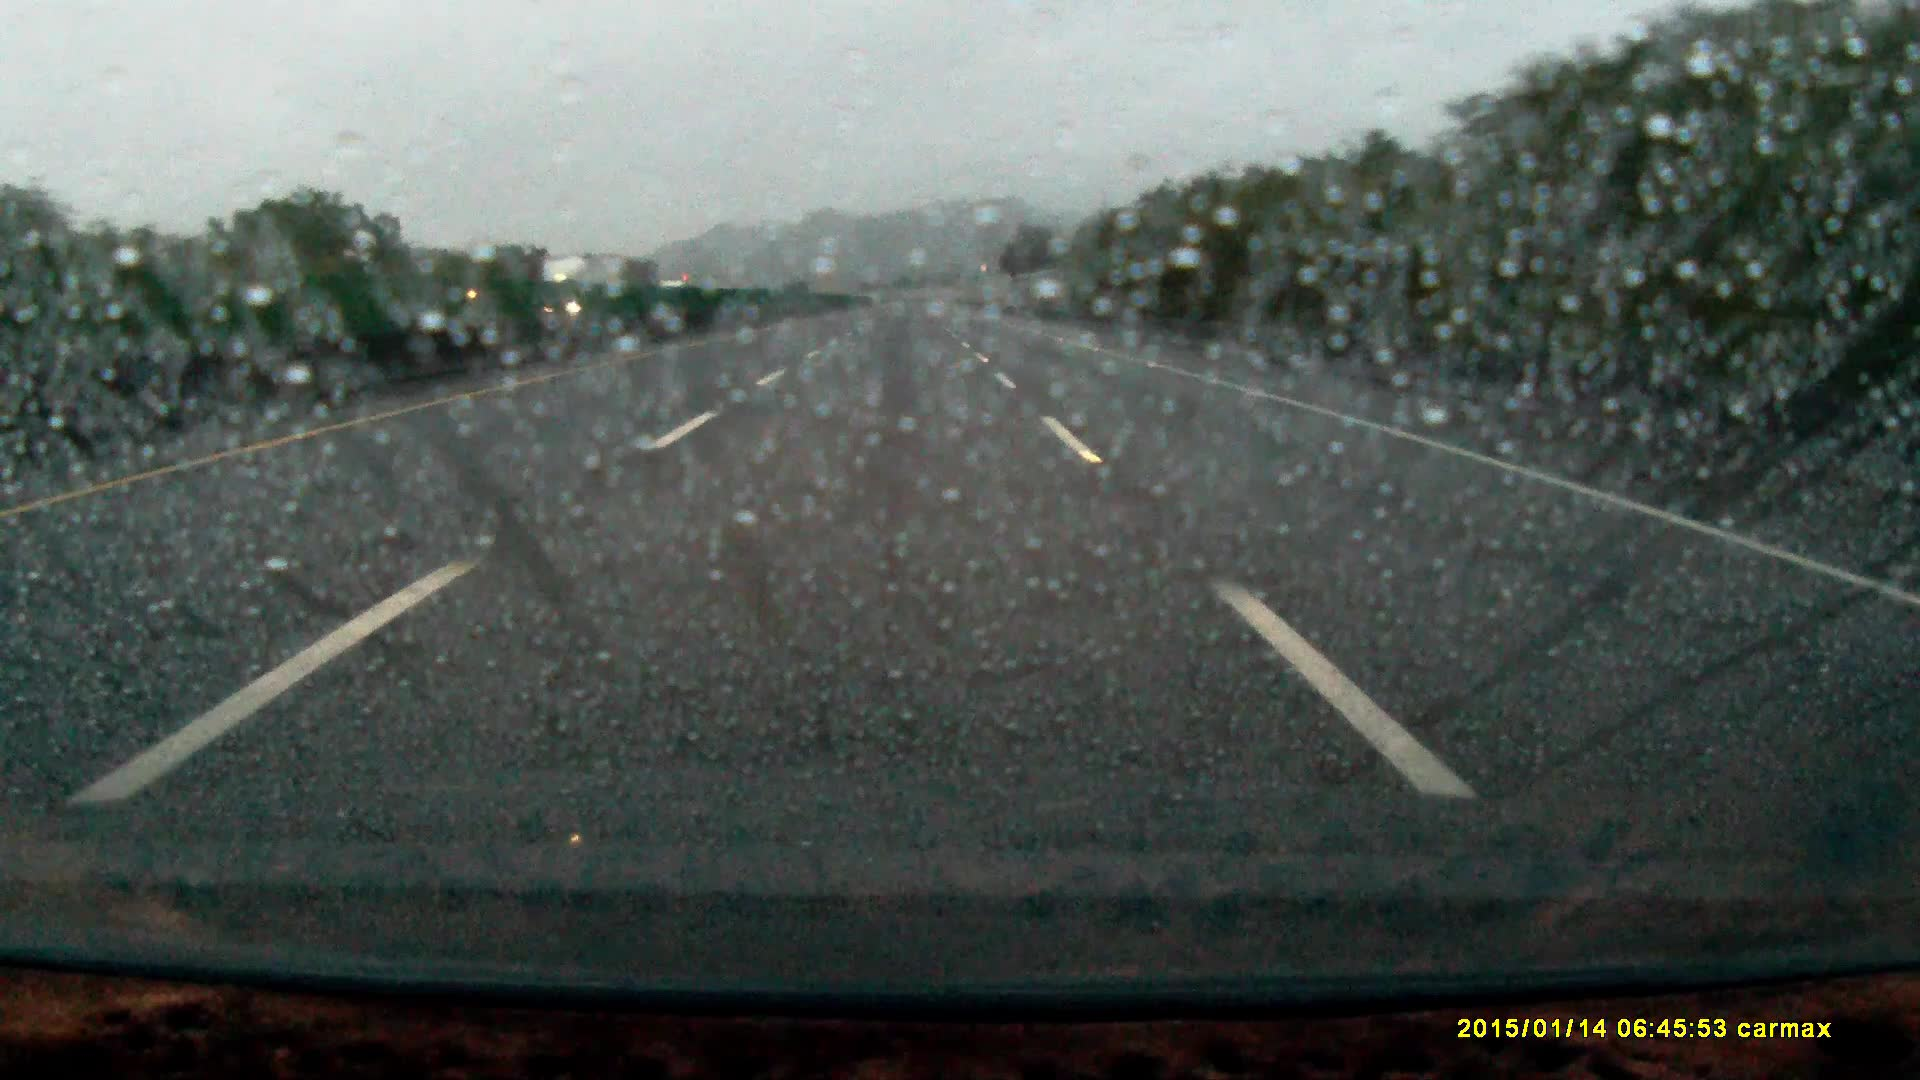vehicle: (659, 278, 703, 311)
